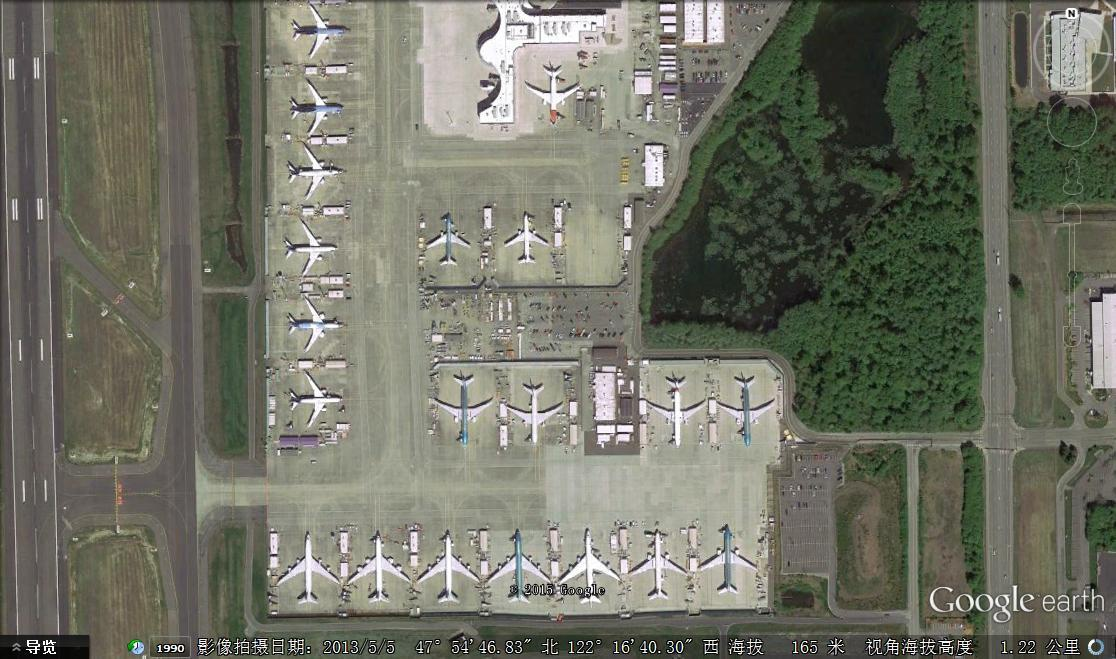aircraft: (485, 527, 556, 609), (343, 527, 413, 608), (556, 526, 624, 608), (274, 528, 343, 608), (416, 528, 483, 608), (715, 372, 782, 452), (430, 371, 496, 449), (647, 372, 712, 451), (625, 531, 692, 605), (503, 378, 570, 448), (695, 527, 759, 598), (520, 63, 584, 128), (286, 366, 346, 435), (283, 291, 344, 356), (285, 142, 345, 202), (283, 217, 339, 278), (290, 5, 352, 60), (287, 79, 346, 135), (424, 211, 473, 271), (503, 211, 550, 267)
